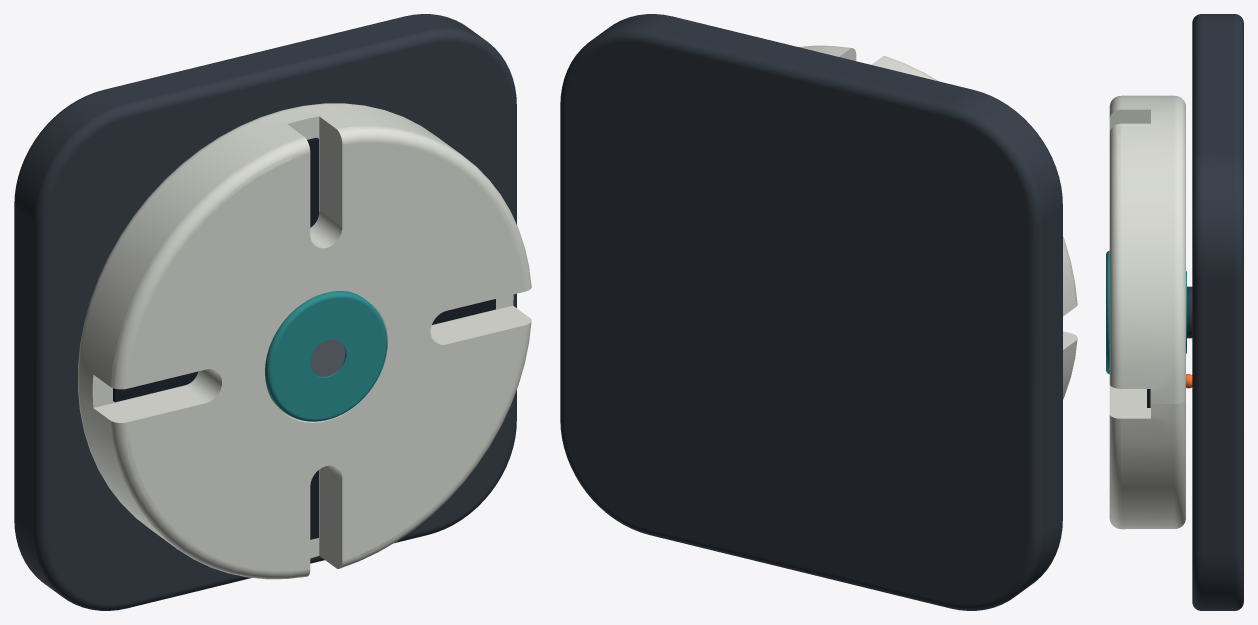
File: .orbit-final.step.glb
3 views of the same model, side by side, from view 1: azimuth 30°, elevation 25°; view 2: azimuth 150°, elevation 25°; view 3: azimuth 270°, elevation 25° (orthographic). The views are drawn at different scales.
Parts seen in each view (by area): view 1: o1.3, o1.1, o1.6, o1.7, o1.4.3, o1.4.2; view 2: o1.1, o1.3; view 3: o1.3, o1.1, o1.6.
Boxes of the visible parts, x1=… form: o1.3: x1=78, y1=103, x2=531, y2=579; o1.1: x1=14, y1=14, x2=516, y2=610; o1.6: x1=265, y1=291, x2=386, y2=421; o1.7: x1=310, y1=339, x2=345, y2=376; o1.4.3: x1=113, y1=371, x2=198, y2=402; o1.4.2: x1=307, y1=137, x2=318, y2=227; o1.1: x1=560, y1=14, x2=1062, y2=610; o1.3: x1=799, y1=45, x2=1077, y2=399; o1.3: x1=1109, y1=95, x2=1185, y2=529; o1.1: x1=1187, y1=14, x2=1243, y2=610; o1.6: x1=1106, y1=250, x2=1109, y2=374.
Size of the model in its own units: 0.096 by 0.096 by 0.0267.
